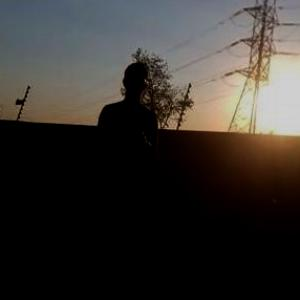follow: (68, 56, 162, 294)
